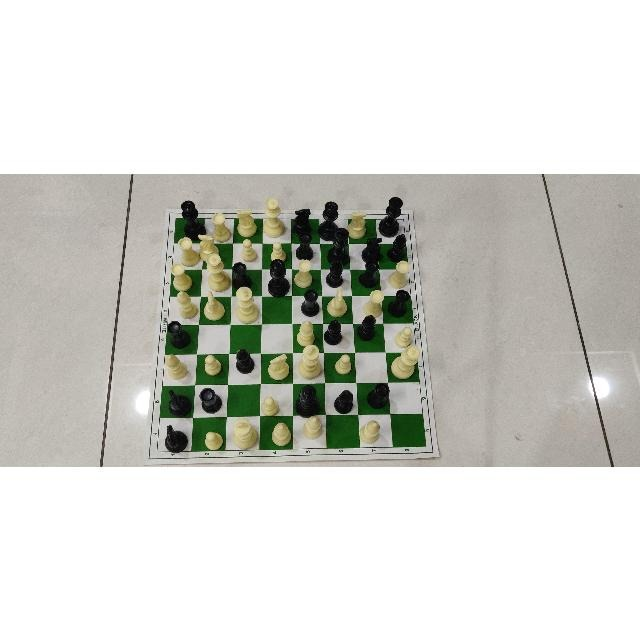black-bishop: (233, 345, 257, 374), (387, 232, 407, 261), (323, 318, 343, 346), (333, 388, 354, 414), (356, 313, 376, 340), (325, 259, 344, 287)
black-king: (376, 195, 403, 236), (325, 226, 350, 267), (294, 384, 319, 418)
black-knight: (167, 386, 193, 417), (163, 422, 189, 453), (291, 206, 314, 237), (361, 237, 382, 263)
black-queen: (180, 200, 206, 240), (318, 200, 340, 240), (268, 259, 290, 298)
black-rook: (166, 320, 191, 348), (199, 386, 223, 414), (366, 382, 390, 410), (294, 231, 316, 261), (388, 289, 410, 317), (358, 260, 379, 286), (301, 288, 319, 316), (233, 261, 251, 289)
white-bishop: (163, 350, 189, 379), (176, 289, 199, 319), (295, 319, 318, 347), (301, 414, 324, 439), (358, 420, 381, 444), (271, 421, 291, 447)
white-king: (297, 343, 325, 379), (235, 286, 260, 324), (232, 416, 258, 449)
white-knight: (326, 288, 349, 318), (197, 232, 220, 261), (236, 207, 258, 237), (203, 290, 225, 320), (346, 208, 367, 238), (268, 352, 290, 380)
white-pawn: (203, 353, 225, 377), (203, 428, 225, 451), (333, 352, 353, 375), (394, 326, 412, 348), (242, 238, 258, 261), (270, 240, 286, 263), (261, 396, 279, 416)
white-queen: (389, 345, 420, 379), (205, 252, 231, 292), (263, 196, 285, 237)
white-rook: (169, 262, 192, 292), (178, 235, 200, 266), (211, 211, 231, 242), (294, 258, 316, 286), (388, 260, 410, 288), (363, 289, 385, 317)
